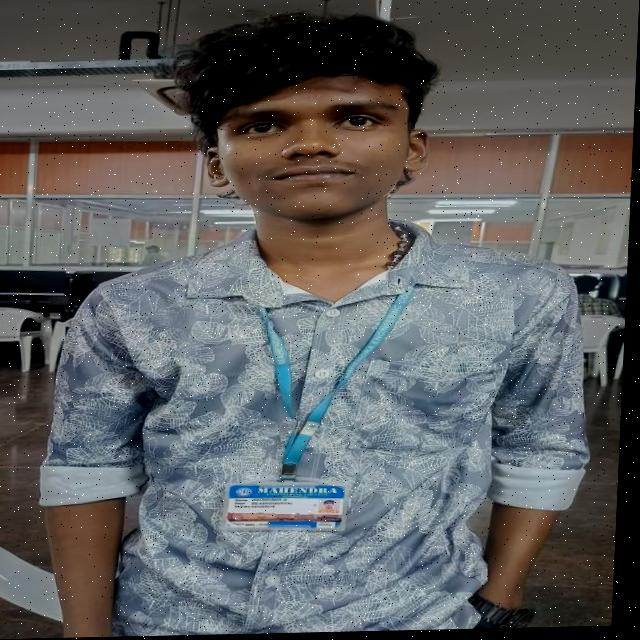id_card: (233, 295, 375, 544)
